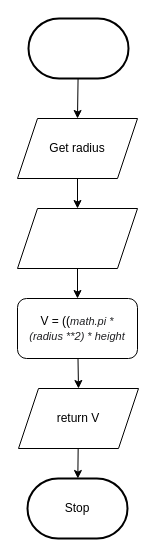
This 156x556 diagram has some shape labels left out. Each missing label, with the centre of its shape:
"Get height" belongs at (77,238).
"Start" belongs at (78,48).
